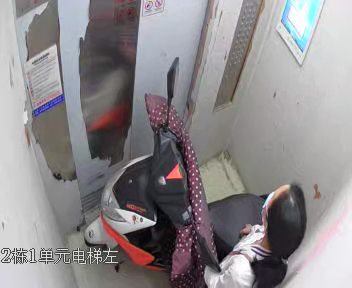Electric-bicycle: (83, 55, 273, 288)
